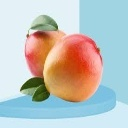mango: (43, 30, 105, 105)
